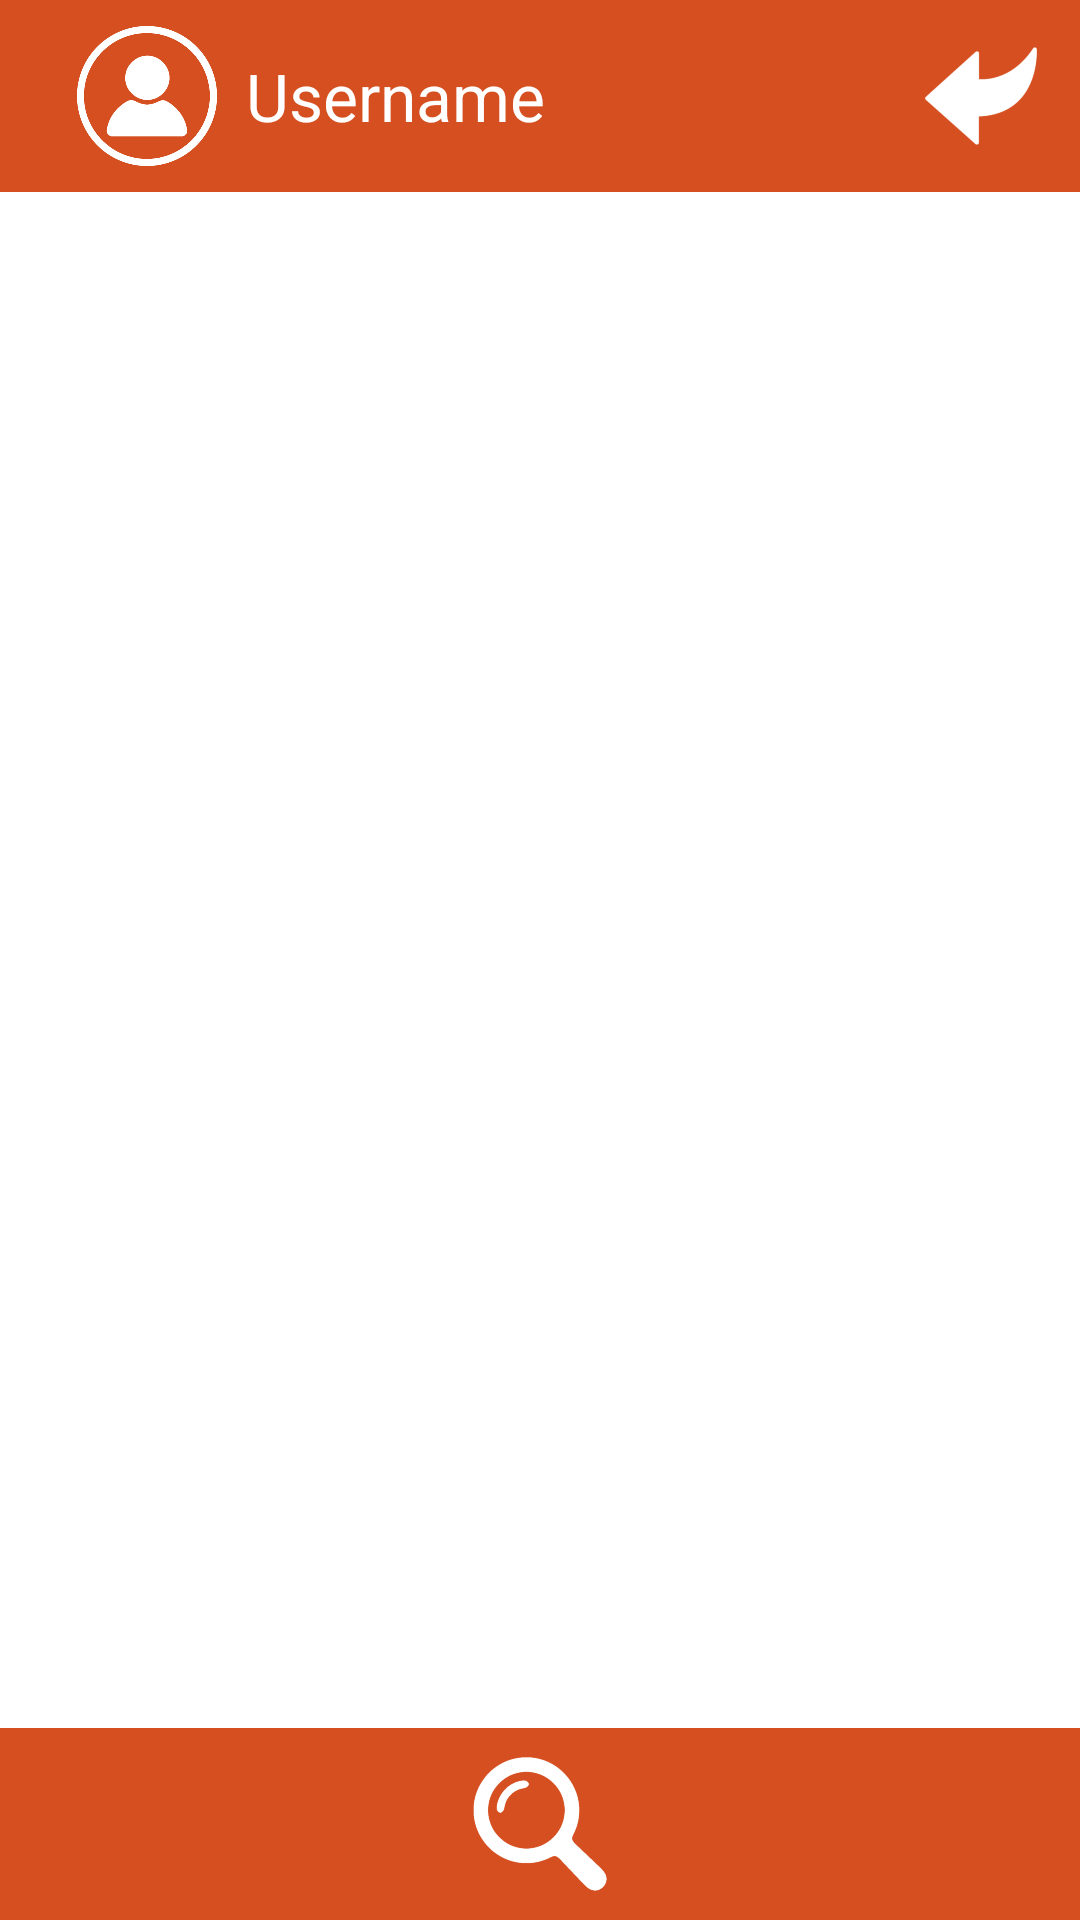

Where icons sit on this 1080px x 1920px app screen, as (x1, y1, x2, y2):
Back: (925, 47, 1037, 145)
search: (473, 1757, 607, 1891)
User photo: (77, 26, 217, 166)
